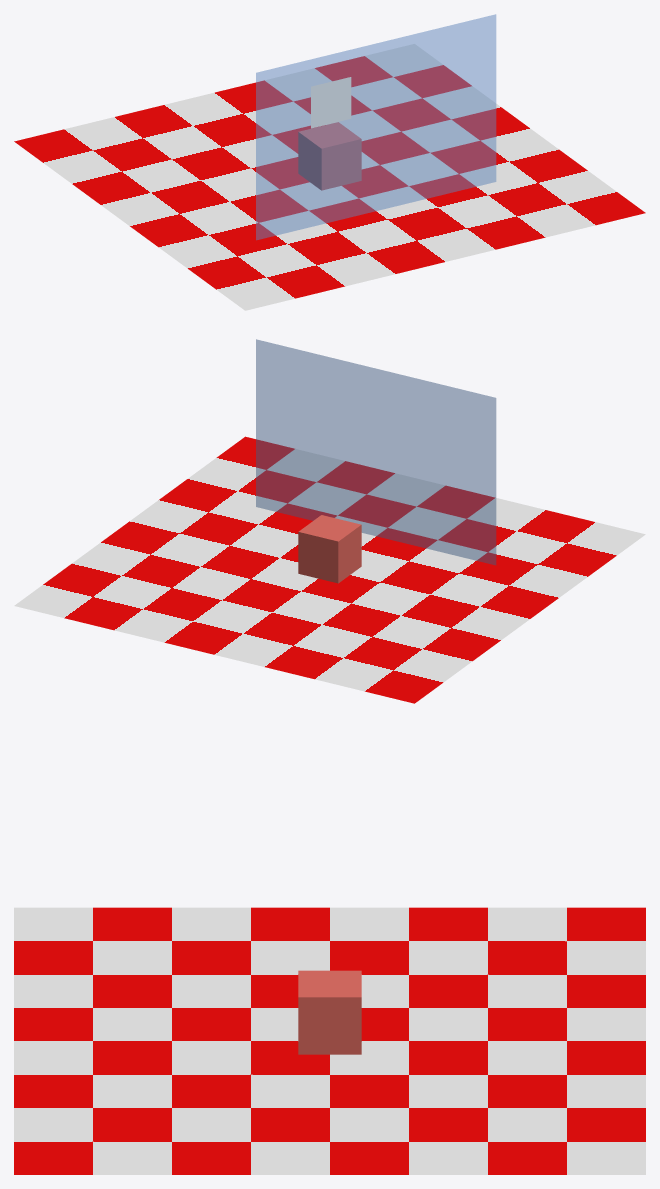
3 renders of one model, top to bottom at view 1: azimuth 30°, elevation 25°; view 2: azimuth 150°, elevation 25°; view 3: azimuth 270°, elevation 25°, orthographic. The views are drawn at different scales.
Parts seen in each view (by area): view 1: ground, glass, cube, lamp; view 2: ground, glass, cube; view 3: ground, cube.
Boxes of the visible parts, x1,y1,x2,y2 form: ground: [14, 44, 645, 310]; glass: [256, 14, 496, 240]; cube: [298, 122, 361, 190]; lamp: [311, 77, 351, 128]; ground: [14, 436, 645, 703]; glass: [256, 339, 496, 565]; cube: [298, 515, 361, 583]; ground: [14, 907, 645, 1174]; cube: [298, 970, 361, 1054].
Bounding box in the file's own units: 10 × 4 × 10.
Materials: 4 (1 with a texture image).
